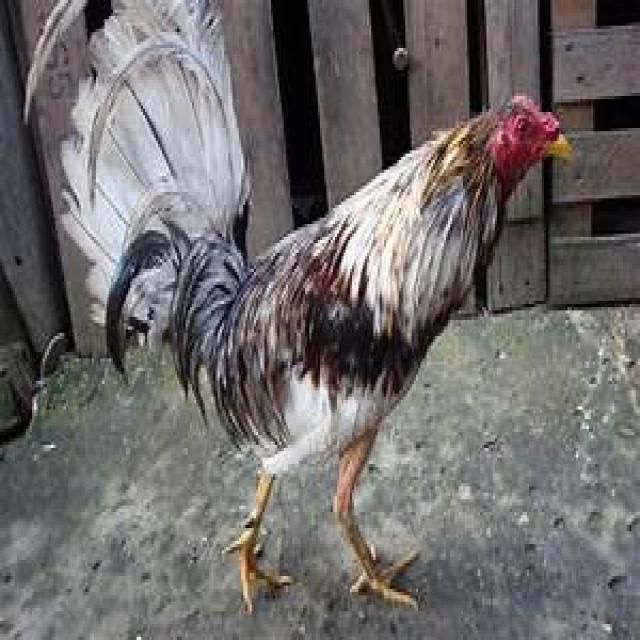hen: (58, 32, 574, 614)
